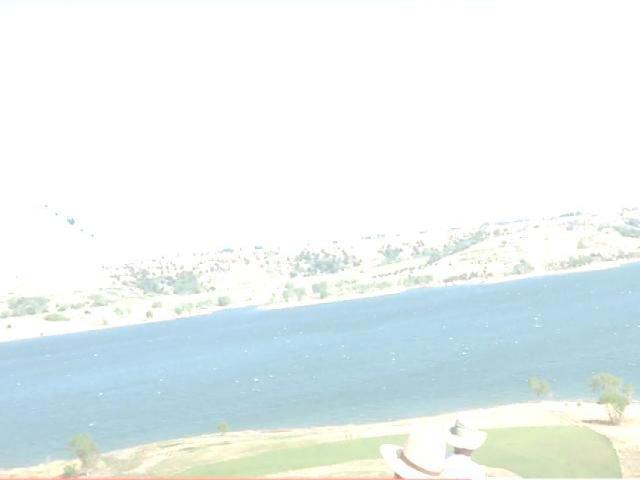iha: (26, 183, 118, 246)
